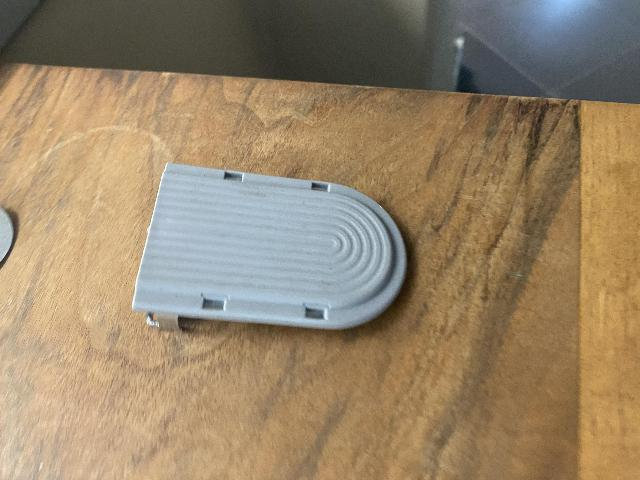Plastik: (138, 157, 408, 338)
